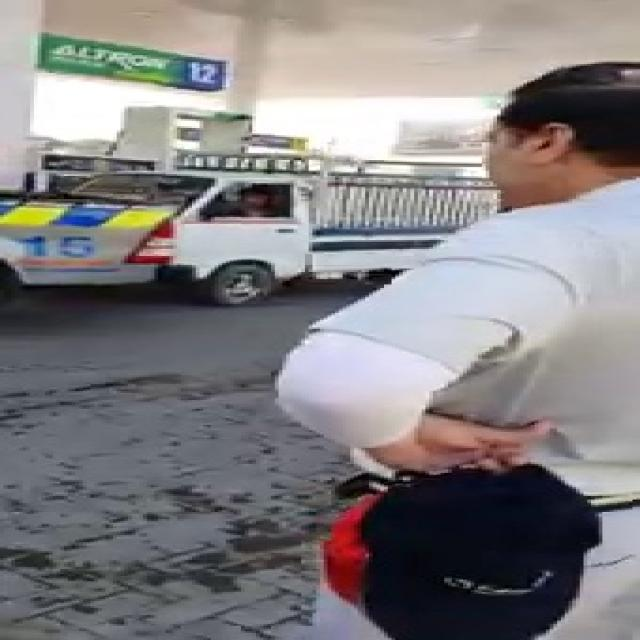police: (0, 192, 188, 304)
